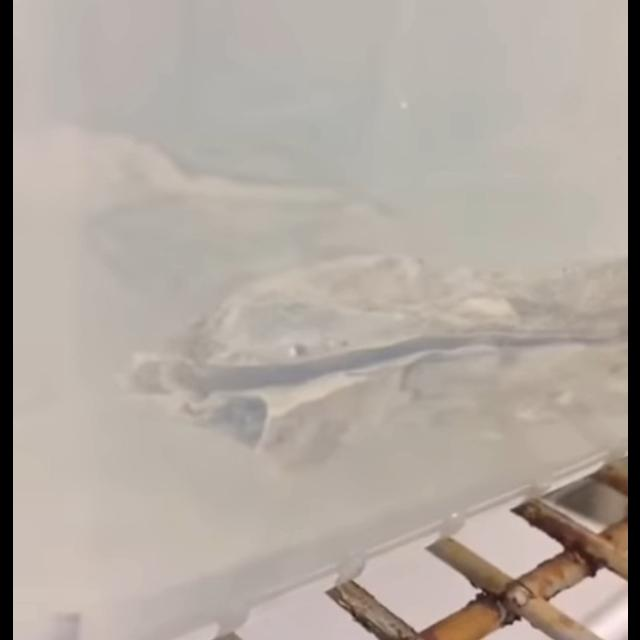Oyster-Indeterminate: (81, 116, 377, 244)
Oyster-Open: (116, 254, 628, 476)
